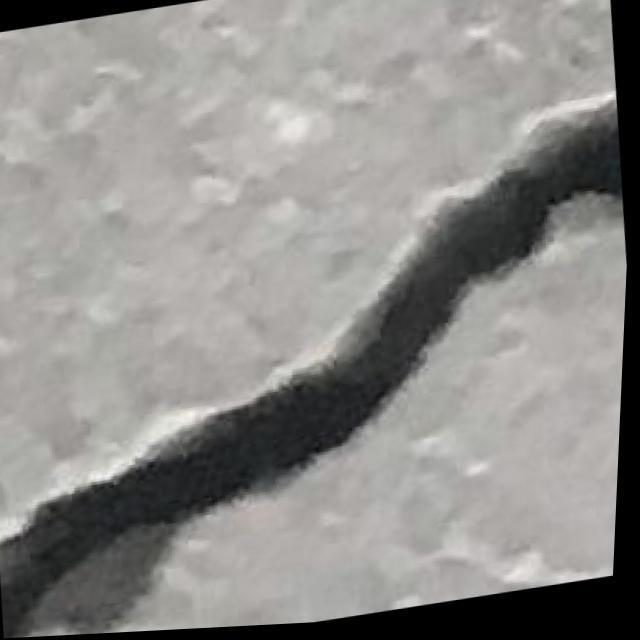Crack: (0, 88, 636, 640)
